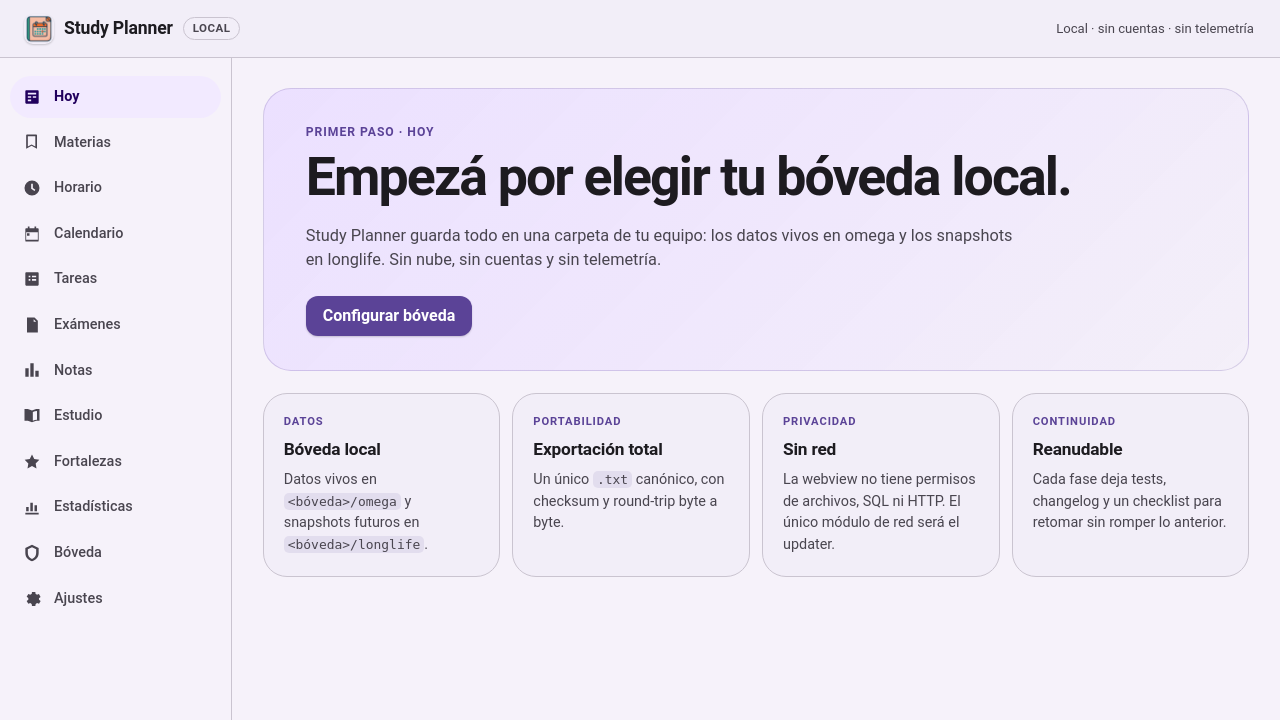
App en navegador › cambia de vista al seleccionar una sección
Click the button "Horario" at (116, 188), box [10,167,221,209]
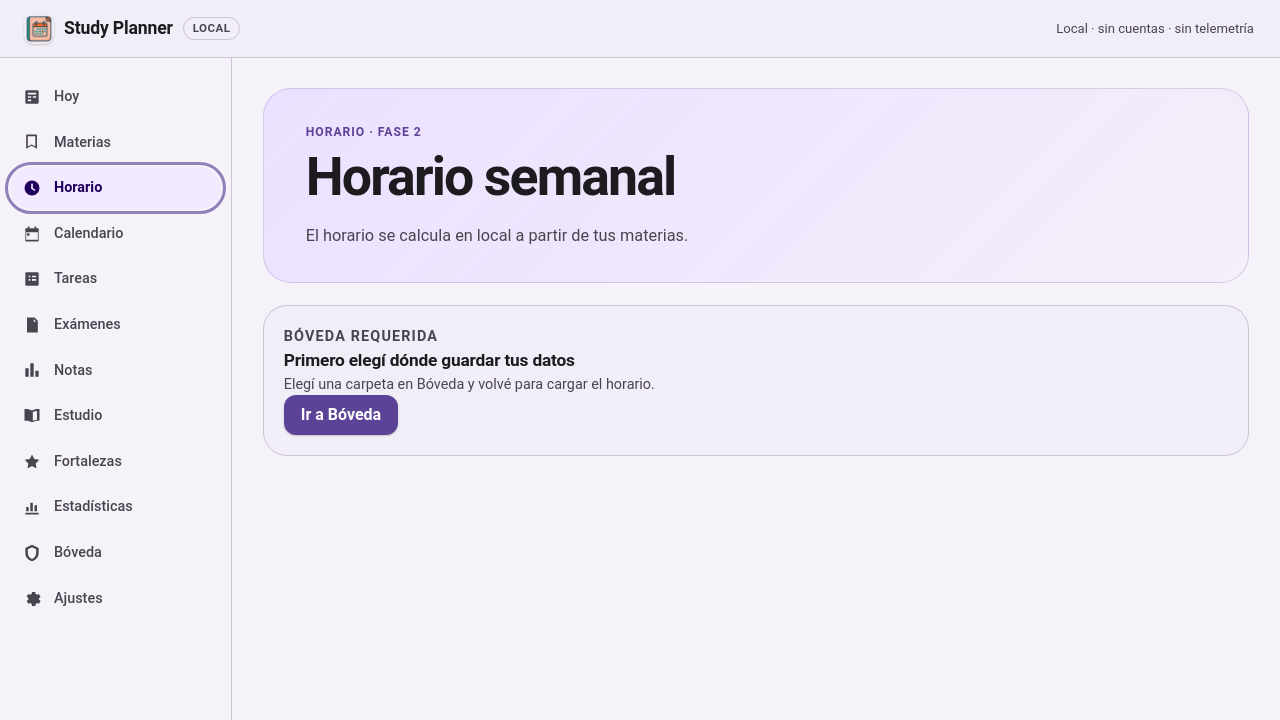
Now the heading "Horario semanal" is shown, box [306,145,675,208]
Now the text "Bóveda requerida" is shown, box [284,328,438,345]
Now the heading "Empezá por elegir" is gone
